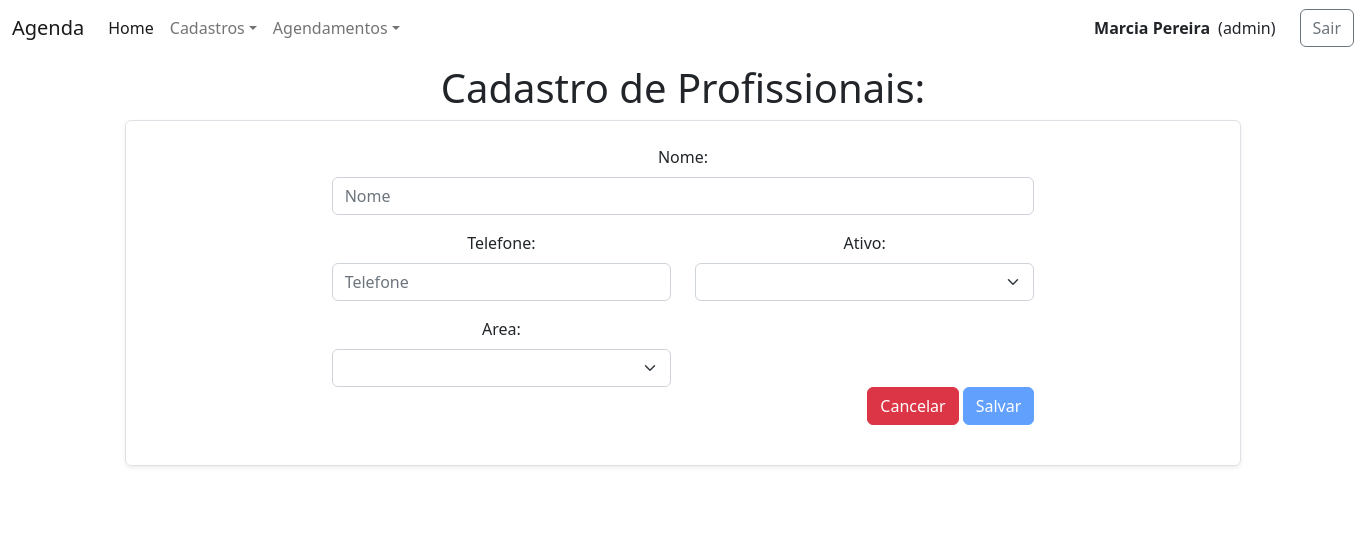
Professional Form Page › Should display error messages when trying to save a professional
In the field with id "name": x=684, y=196 left=332, top=177, right=1035, bottom=215, type "Nome do Profissional"
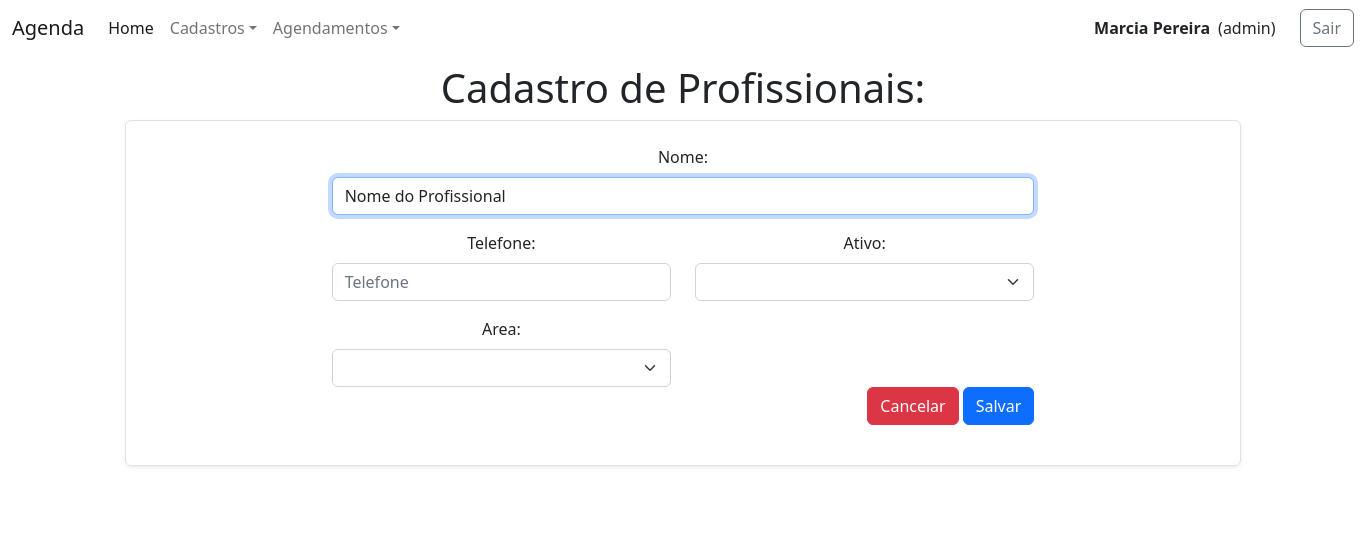
Click the button "Salvar": x=999, y=406 left=963, top=387, right=1035, bottom=425
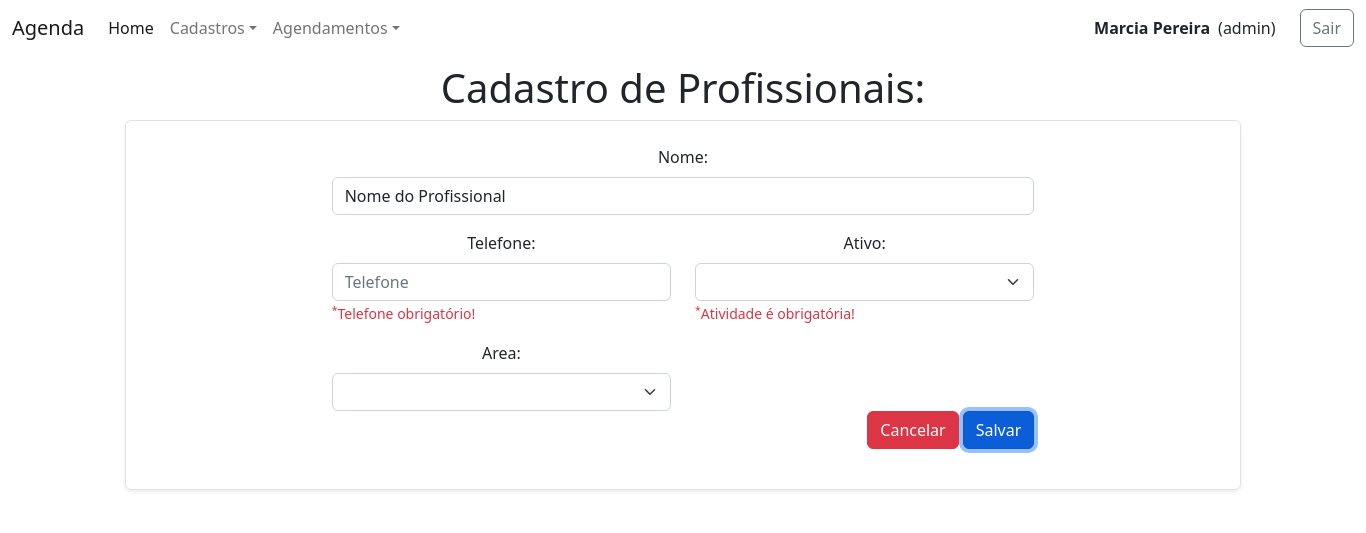
Expected: the text "Telefone obrigatório!" is shown, left=337, top=304, right=475, bottom=323
Expected: the text "Atividade é obrigatória!" is shown, left=701, top=304, right=855, bottom=323
Clear the field with id "name": x=684, y=196 left=332, top=177, right=1035, bottom=215
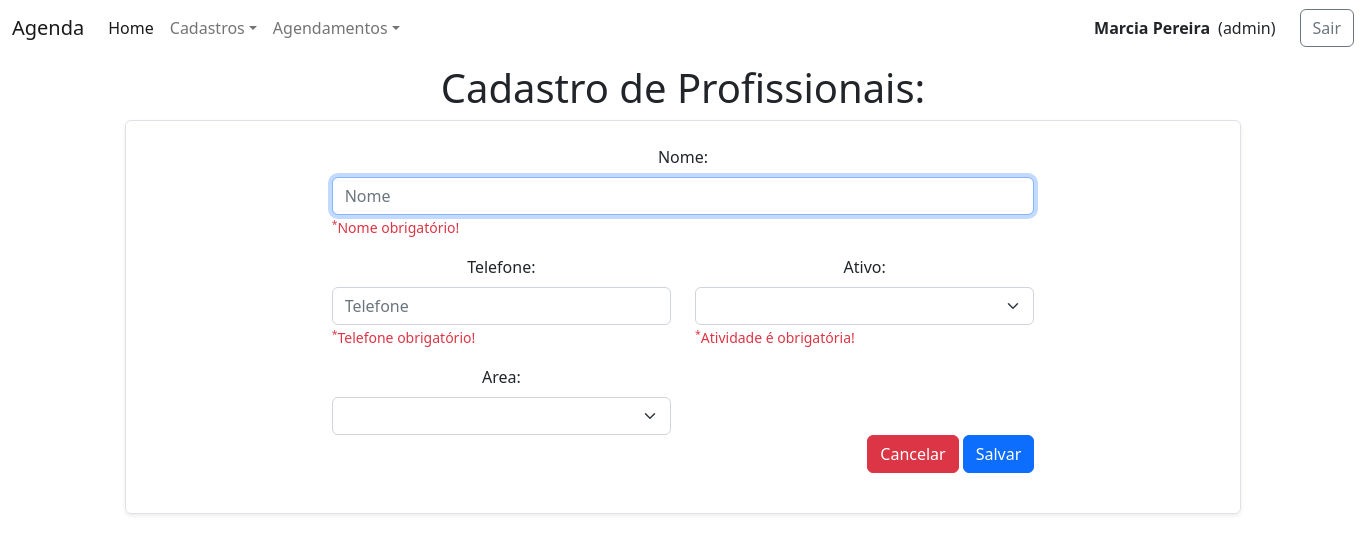
Expected: the text "Nome obrigatório!" is shown, left=337, top=218, right=459, bottom=237
